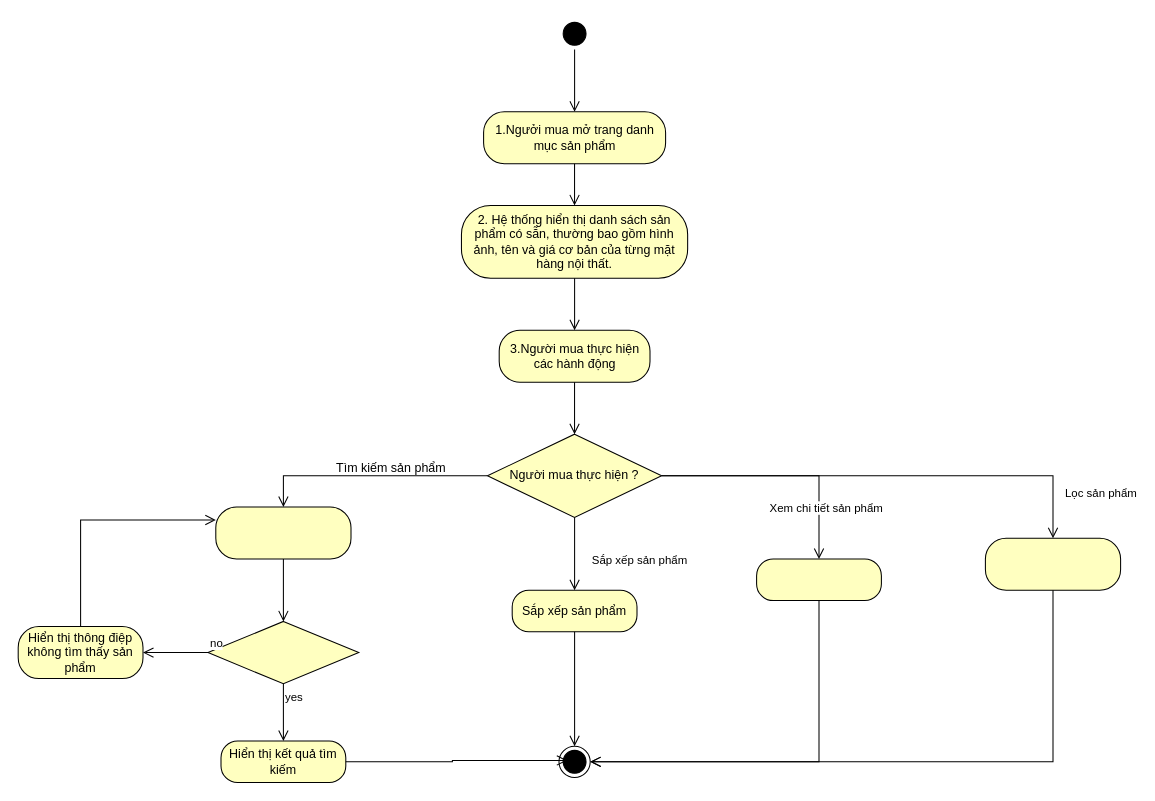
This 1155x801 diagram has some shape labels left out. The centre of each missing label's shape, as x and y in pixels:
"3.1Người dùng nhập tên sản phẩm cần tìm kiếm" goes at (283,532).
"Có sản phẩm không ?" goes at (283,652).
"Hiển thị chi tiết sản phẩm" goes at (818,579).
"Thực hiện lọc sản phẩm theo danh mục sản phẩm" goes at (1052,563).
